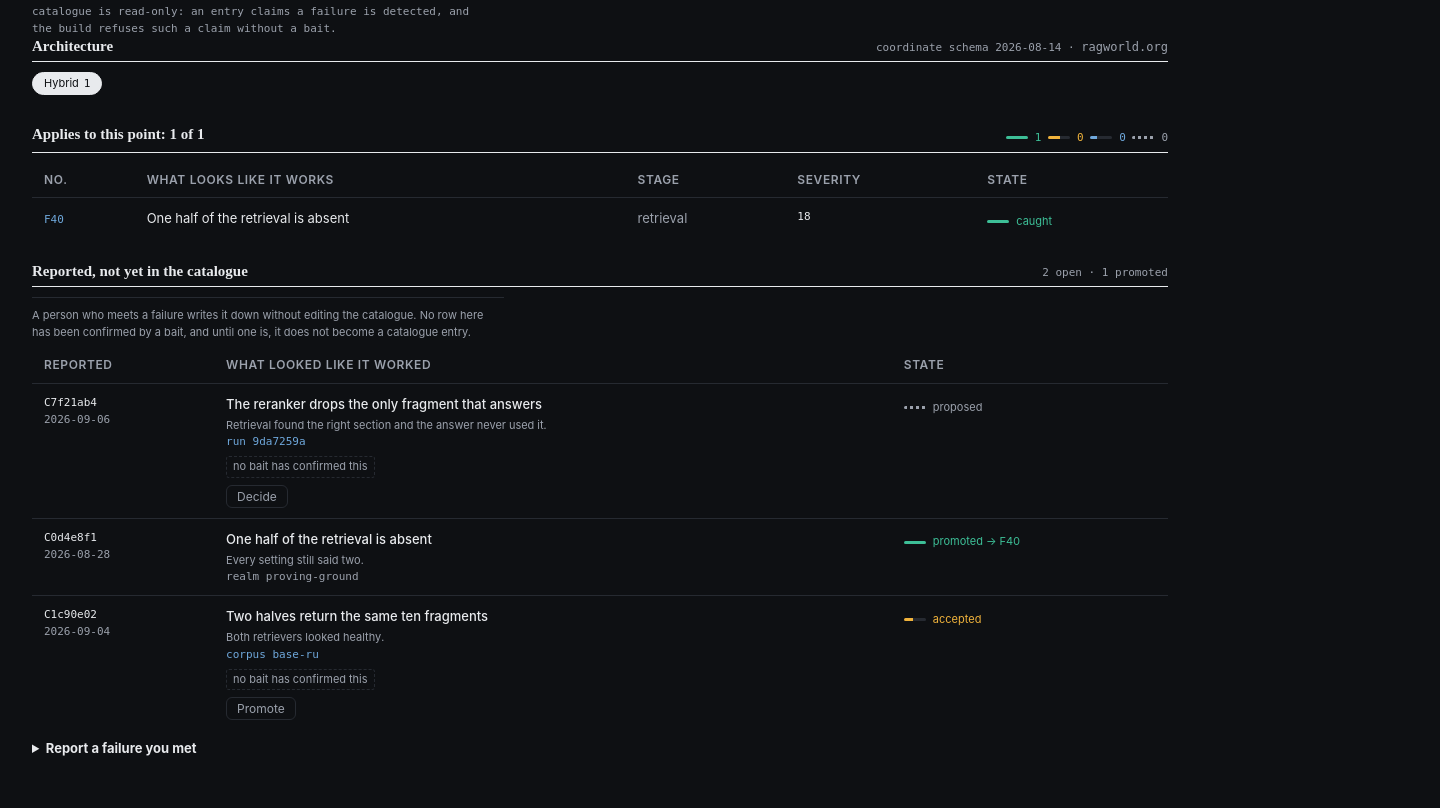
it: deciding a report and recording what it became › hands over the command that drafts the entry, and refuses a pointer to one nobody wrote
(page scrolled)
Click the button "Promote" at (261, 708), box [226,697,296,720]
(page scrolled)
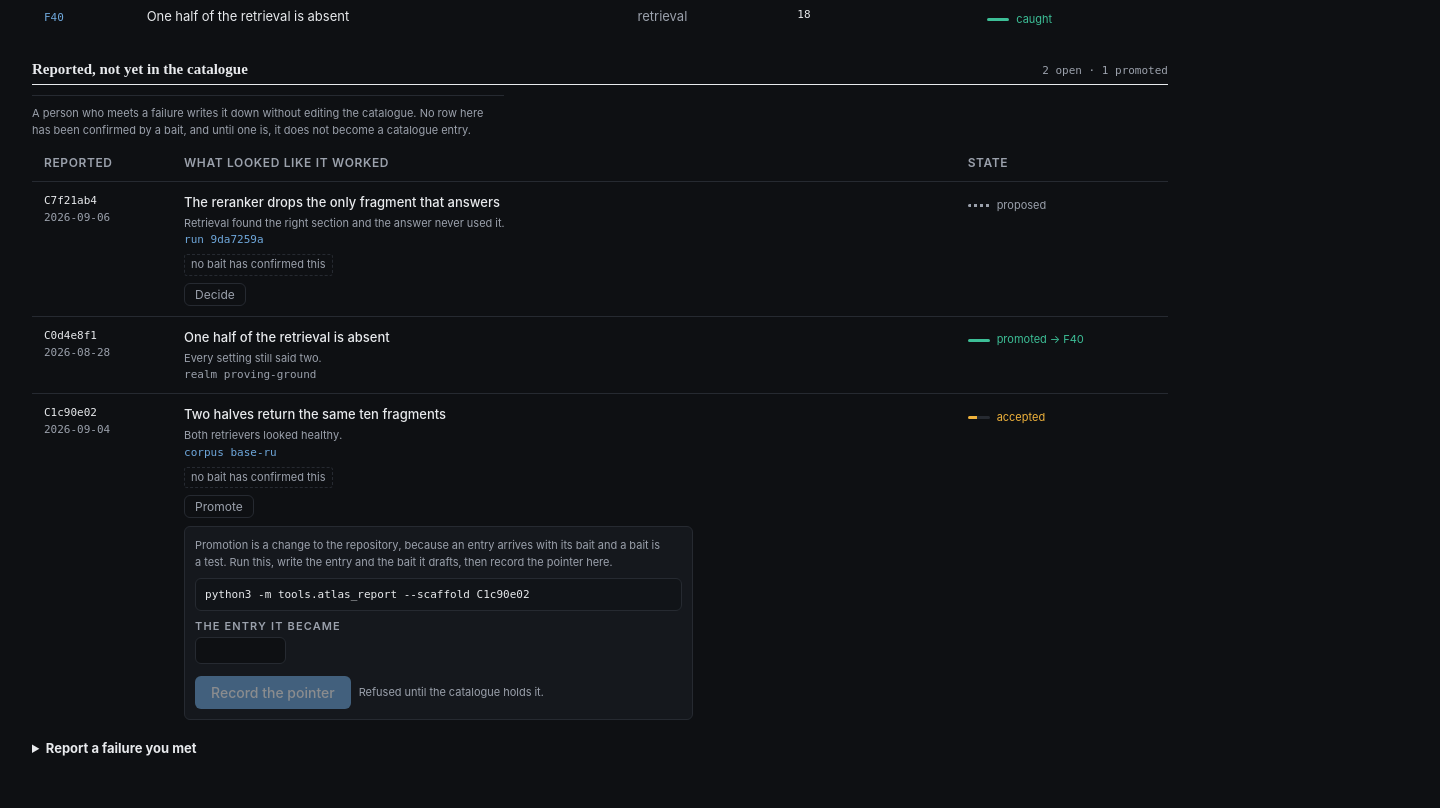
Expected: the text "python3 -m tools.atlas_report --scaffold C1c90e02" is shown, [195,578,682,611]
Expected: the button "Record the pointer" is disabled, [195,676,351,709]
Type "F42" into the field labelled "The entry it became" at (240, 651), box [195,637,286,664]
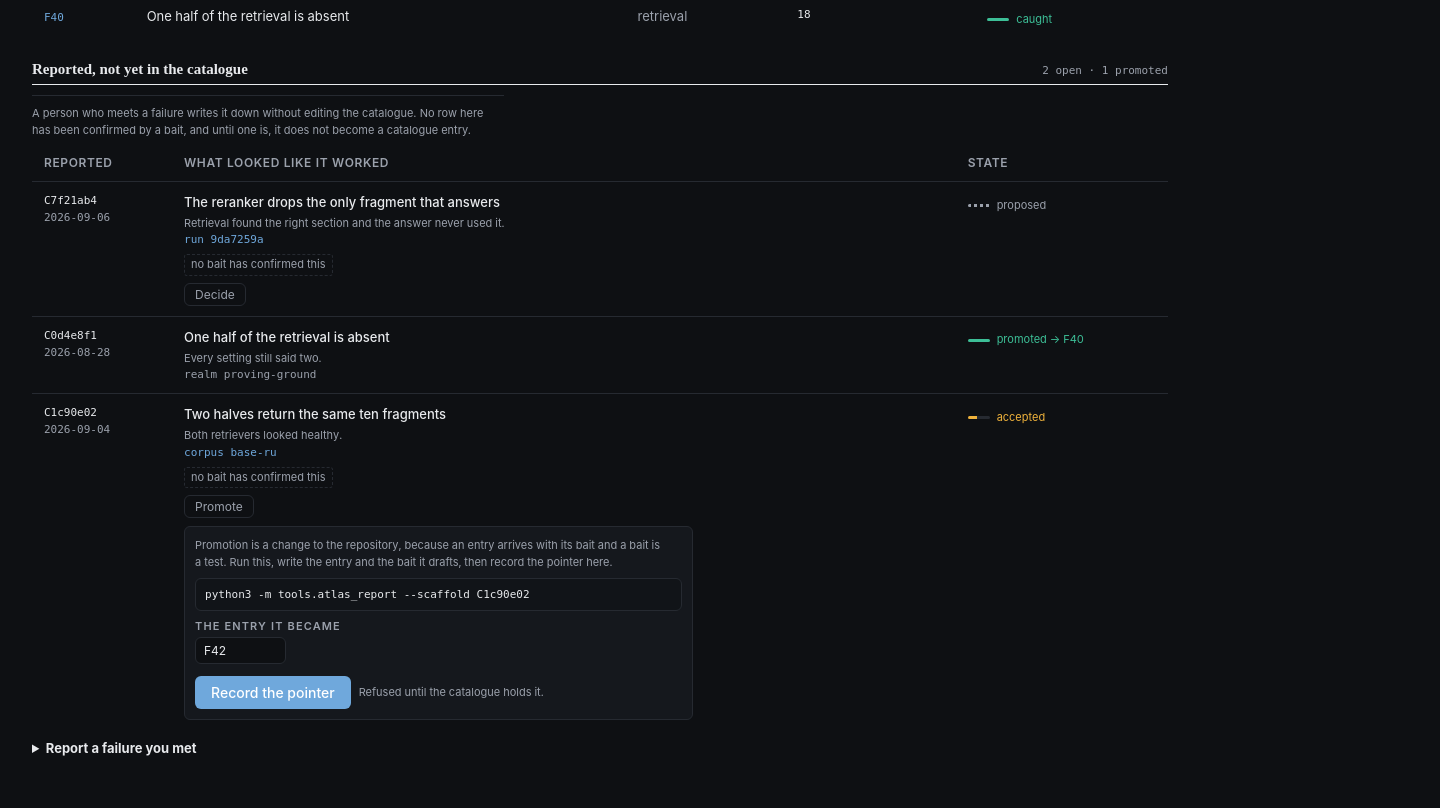
Expected: the button "Record the pointer" is enabled
Click the button "Record the pointer" at (273, 693), box [195,676,351,709]
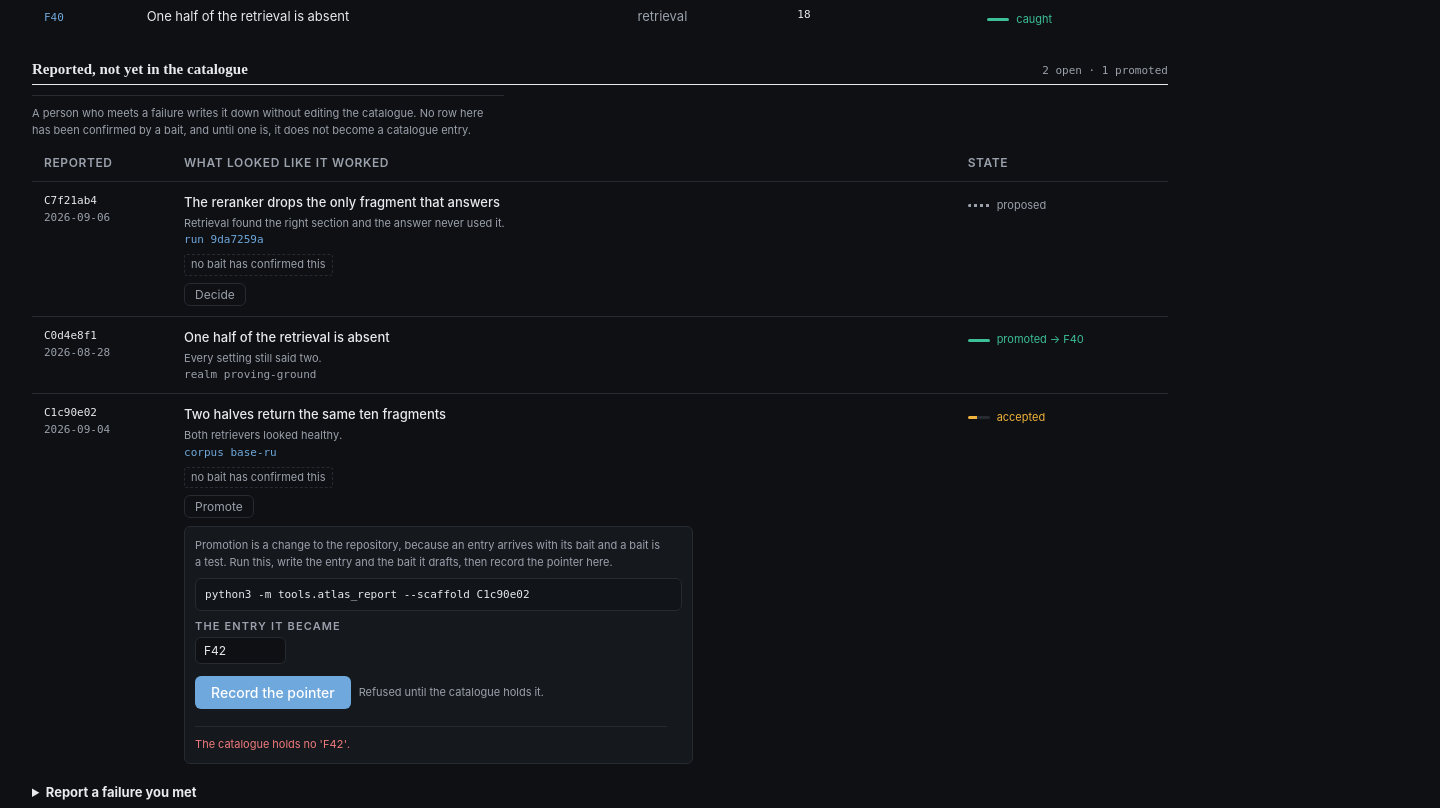
Expected: the text "The catalogue holds no 'F42'." is shown, [195,726,667,753]
